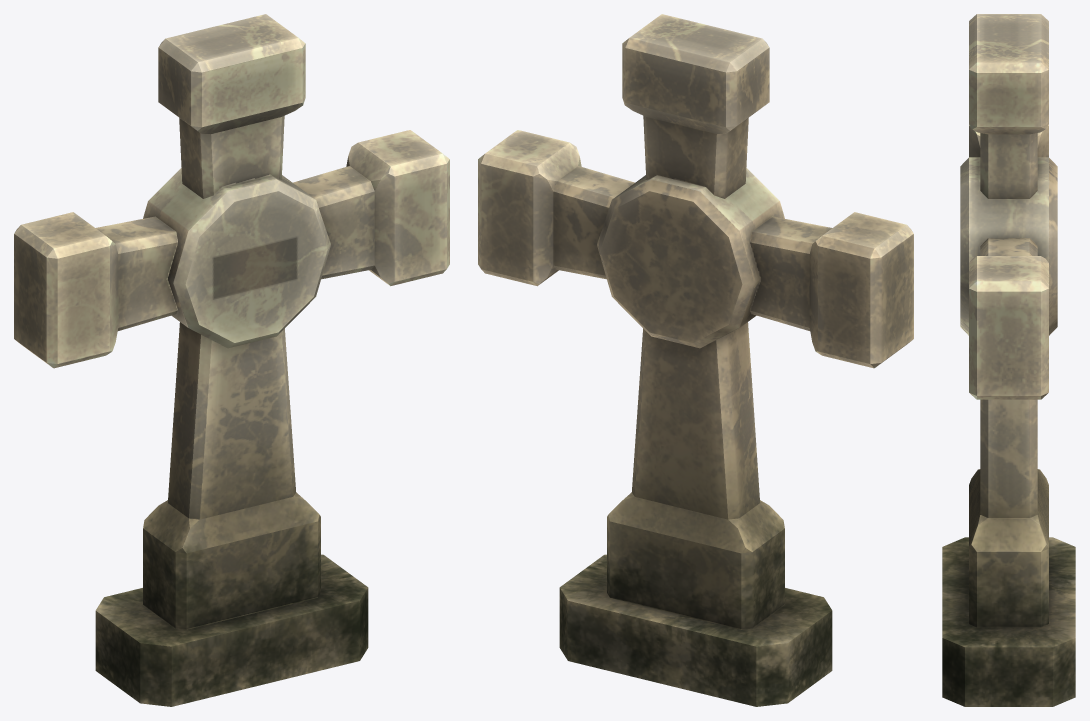
Rendered from SM_Tombstone_2.FBX.
3 renders of one model, left to right at view 1: azimuth 30°, elevation 25°; view 2: azimuth 150°, elevation 25°; view 3: azimuth 270°, elevation 25°, orthographic.
Parts seen in each view (by area): view 1: Tombstone_2; view 2: Tombstone_2; view 3: Tombstone_2.
Part boxes in pixels (x1=…): Tombstone_2: x1=14, y1=14, x2=449, y2=706; Tombstone_2: x1=478, y1=14, x2=913, y2=706; Tombstone_2: x1=942, y1=14, x2=1075, y2=706.
Size of the model in its own units: 32.93 by 9.55 by 48.48.
